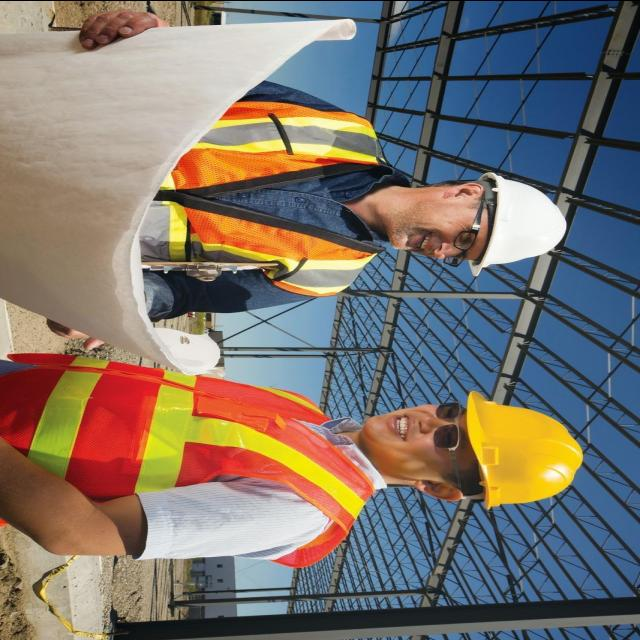helmet: (462, 388, 588, 520), (470, 164, 578, 276)
jacket: (0, 356, 384, 594), (70, 84, 422, 313)
